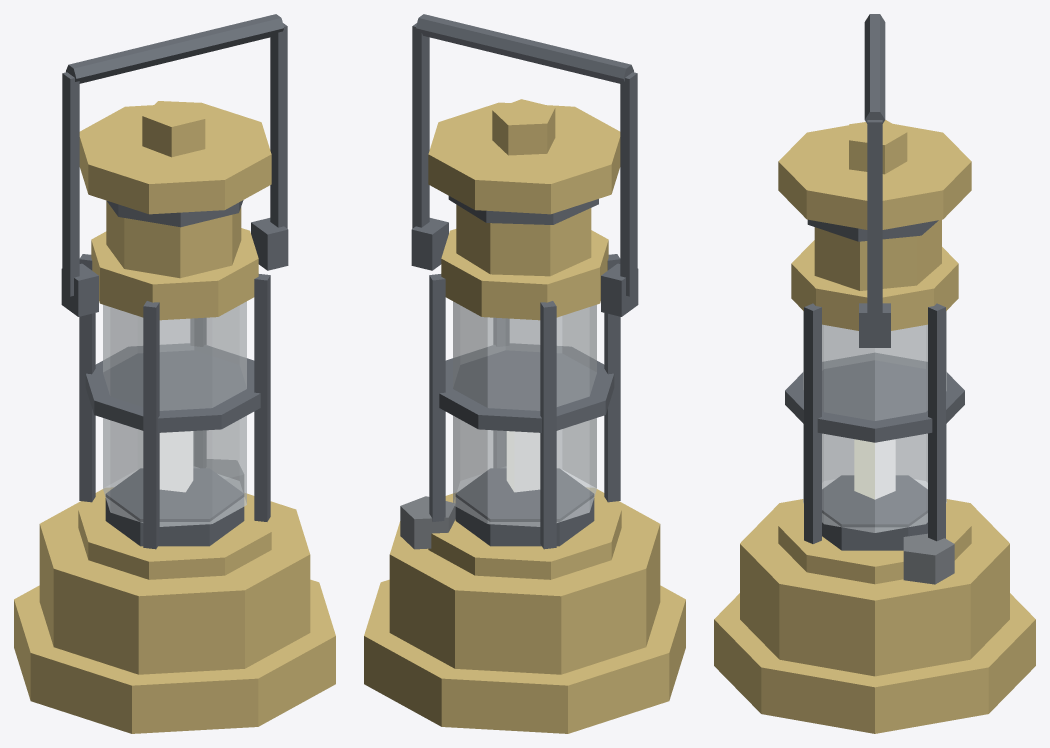
Rendered from mine_lantern.glb.
3 views of the same model, side by side, from view 1: azimuth 30°, elevation 25°; view 2: azimuth 150°, elevation 25°; view 3: azimuth 270°, elevation 25° (orthographic). The views are drawn at different scales.
Parts seen in each view (by area): view 1: mine_lantern; view 2: mine_lantern; view 3: mine_lantern.
Part boxes in pixels (bbox=[...]): mine_lantern: bbox=[14, 14, 335, 733]; mine_lantern: bbox=[364, 14, 685, 733]; mine_lantern: bbox=[714, 14, 1035, 733].
Size of the model in its own units: 0.25 by 0.5169 by 0.25.
